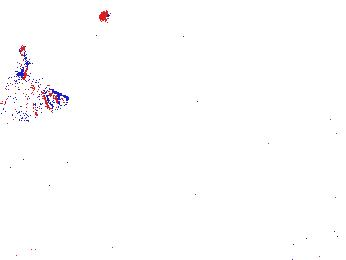X-ray fish: (1, 84, 72, 120)
red belly glassfish: (236, 132, 284, 148)
redtail glassfish: (1, 45, 48, 90)
